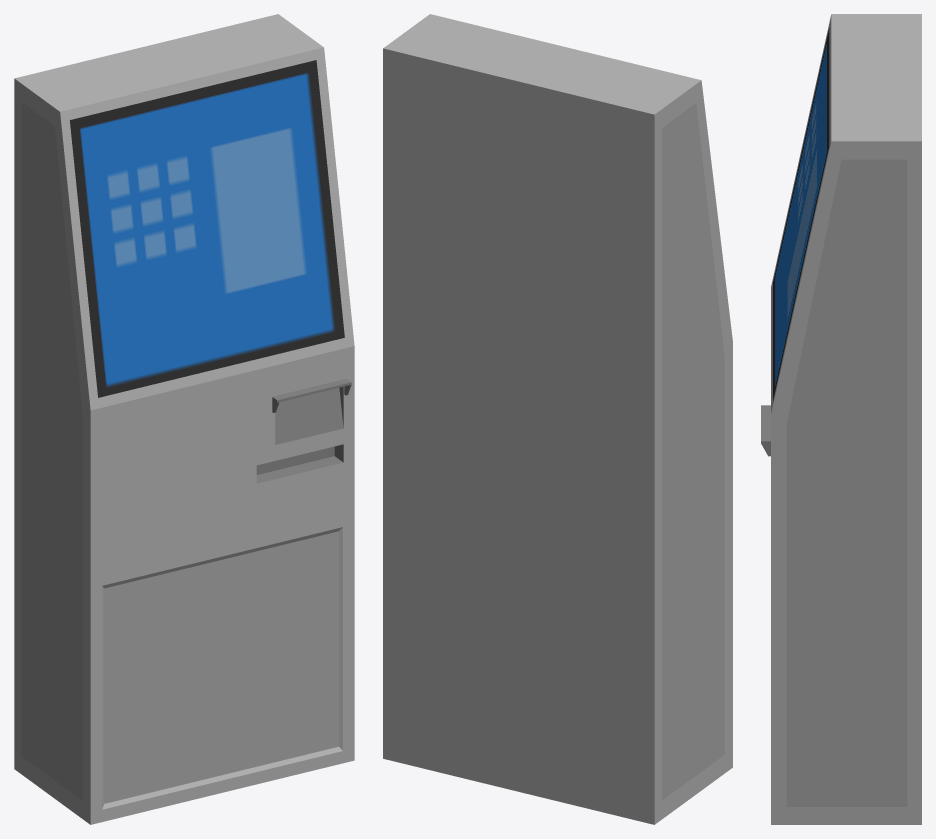
File: SM_Train_Subway_Station_Props_Ticket.fbx
3 renders of one model, left to right at view 1: azimuth 30°, elevation 25°; view 2: azimuth 150°, elevation 25°; view 3: azimuth 270°, elevation 25°, orthographic. The views are drawn at different scales.
Parts seen in each view (by area): view 1: SM_Train_Subway_Station_Props_Ticket; view 2: SM_Train_Subway_Station_Props_Ticket; view 3: SM_Train_Subway_Station_Props_Ticket.
Boxes of the visible parts, x1,y1,x2,y2 form: SM_Train_Subway_Station_Props_Ticket: (14,14,354,824); SM_Train_Subway_Station_Props_Ticket: (383,14,732,824); SM_Train_Subway_Station_Props_Ticket: (761,14,921,824).
Bounding box in the file's own units: 80 × 200 × 42.61.
